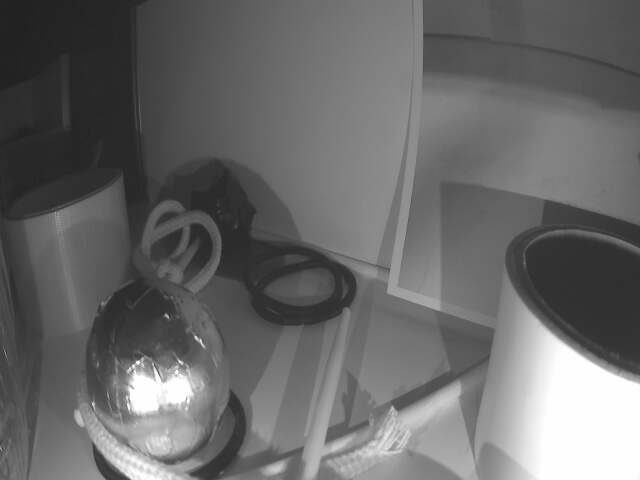Dead: (190, 174, 258, 259)
Live: (81, 290, 224, 456)
